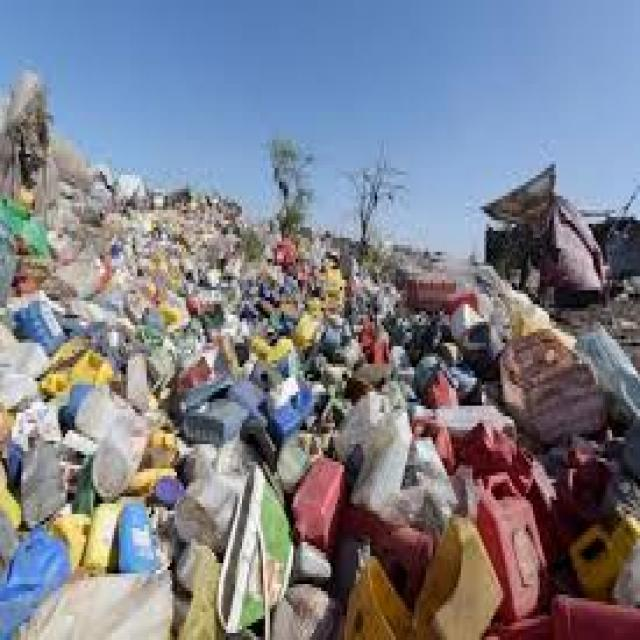heap: (14, 283, 442, 639)
